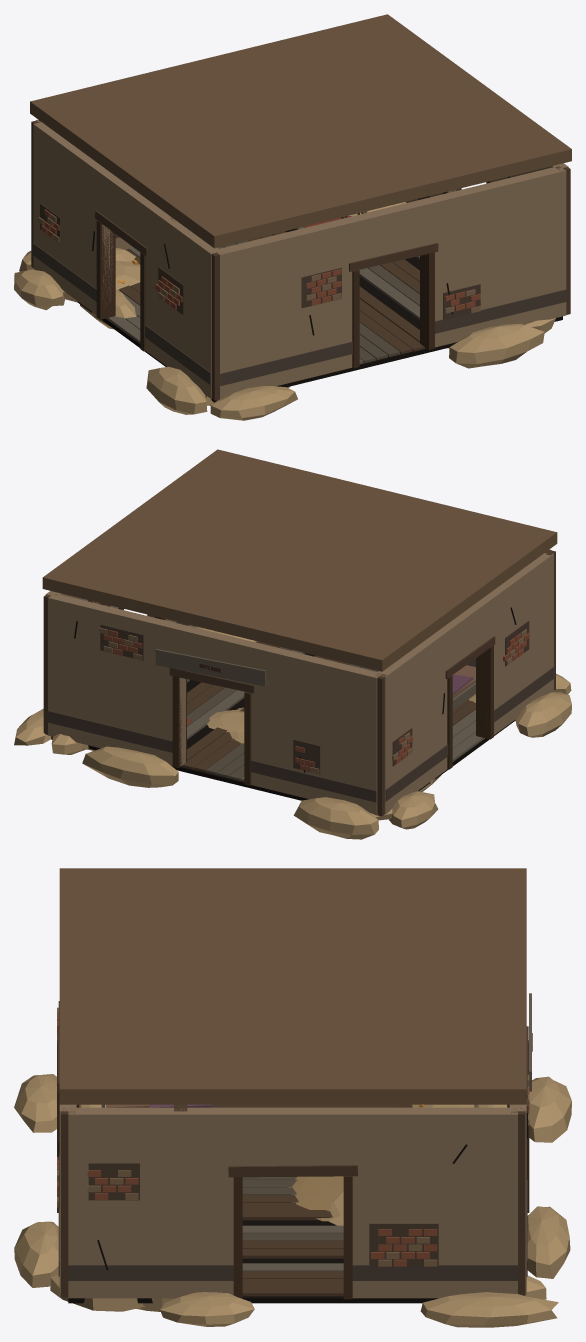
File: TownBldg_kate.glb
3 views of the same model, one above another, from view 1: azimuth 30°, elevation 25°; view 2: azimuth 150°, elevation 25°; view 3: azimuth 270°, elevation 25° (orthographic). The views are drawn at different scales.
Parts seen in each view (by area): view 1: TownBldg_kate.001; view 2: TownBldg_kate.001; view 3: TownBldg_kate.001.
Boxes of the visible parts, box(x1,y1,x2,y2) form: TownBldg_kate.001: box(14, 14, 571, 420); TownBldg_kate.001: box(14, 449, 571, 839); TownBldg_kate.001: box(14, 868, 571, 1327).
Bounding box in the file's own units: 10.9 × 4.68 × 9.92.
